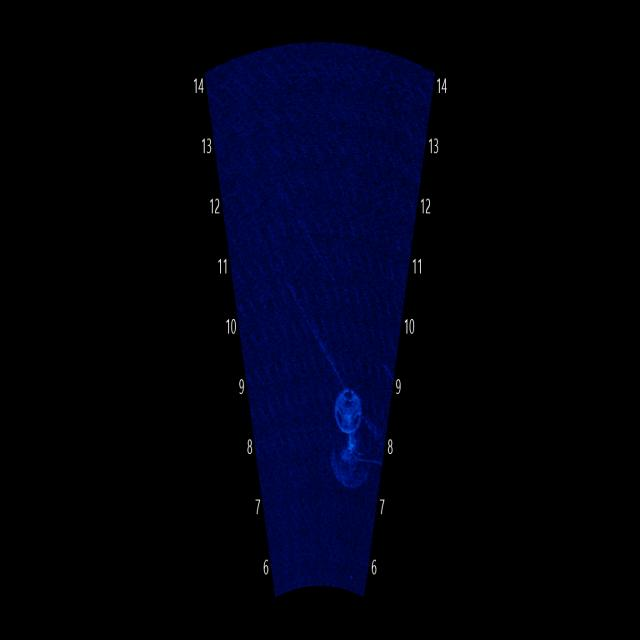circle: (324, 378, 373, 447)
